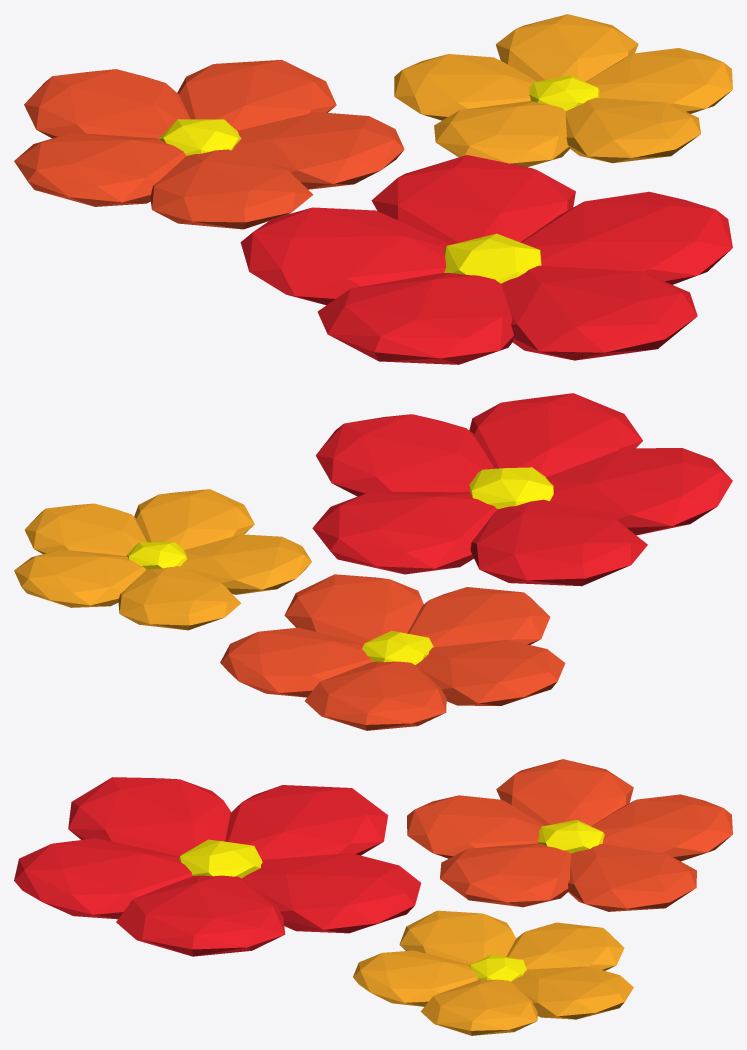
Rendered from Flowers.fbx.
3 views of the same model, one above another, from view 1: azimuth 30°, elevation 25°; view 2: azimuth 150°, elevation 25°; view 3: azimuth 270°, elevation 25° (orthographic). The views are drawn at different scales.
Visible parts, largest first — view 1: Flowers; view 2: Flowers; view 3: Flowers.
Boxes of the visible parts, x1,y1,x2,y2 form: Flowers: (14,14,732,364); Flowers: (14,393,732,730); Flowers: (14,759,732,1035).
Size of the model in its own units: 212 by 18.9 by 244.
